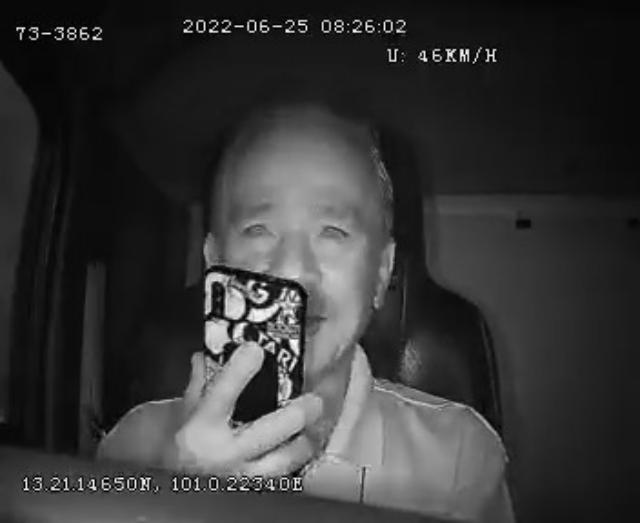PhoneUse: (202, 260, 306, 428)
SafeDriving: (309, 206, 359, 252), (232, 209, 280, 244)
